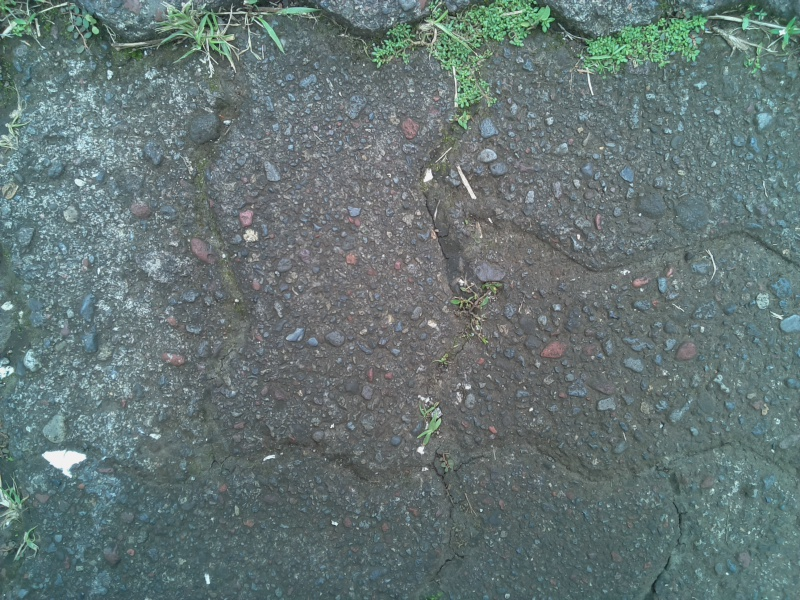Weed: (371, 7, 548, 114), (577, 16, 714, 73), (162, 4, 240, 67), (1, 473, 47, 560), (414, 397, 453, 450)
